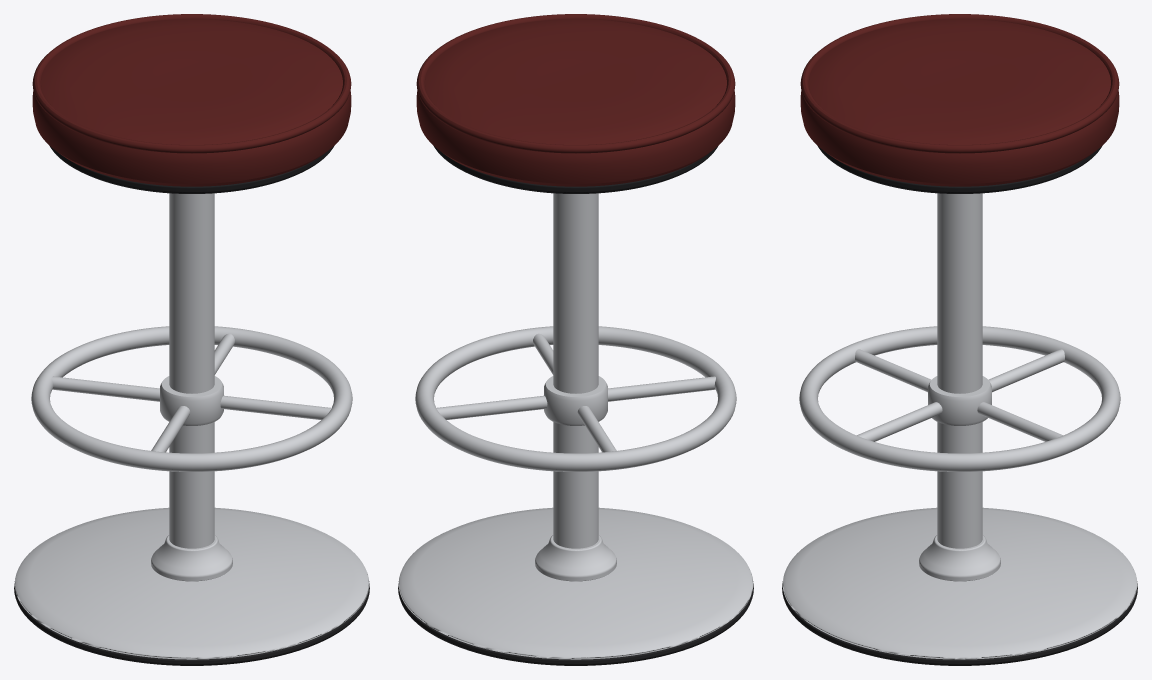
The model's file is stool_low.glb.
The picture shows the model from 3 angles, left to right: view 1: azimuth 30°, elevation 25°; view 2: azimuth 150°, elevation 25°; view 3: azimuth 270°, elevation 25°; orthographic projection.
Visible parts, largest first — view 1: stool_low; view 2: stool_low; view 3: stool_low.
Boxes of the visible parts, left/top/right/bottom form: stool_low: left=14, top=14, right=369, bottom=665; stool_low: left=398, top=14, right=753, bottom=665; stool_low: left=782, top=14, right=1137, bottom=665.
Size of the model in its own units: 0.3997 by 0.6398 by 0.3997.
